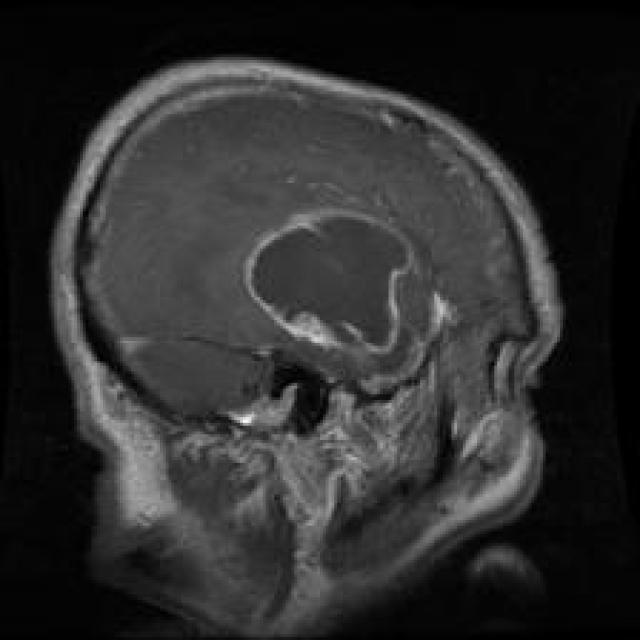glioma_tumor: (232, 199, 418, 362)
